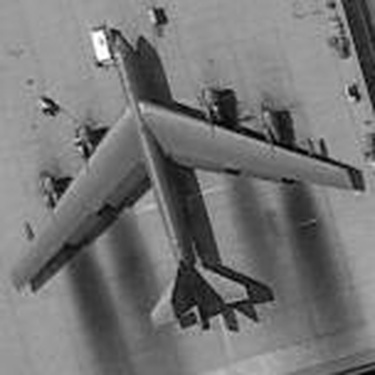airplane: (12, 17, 361, 348)
